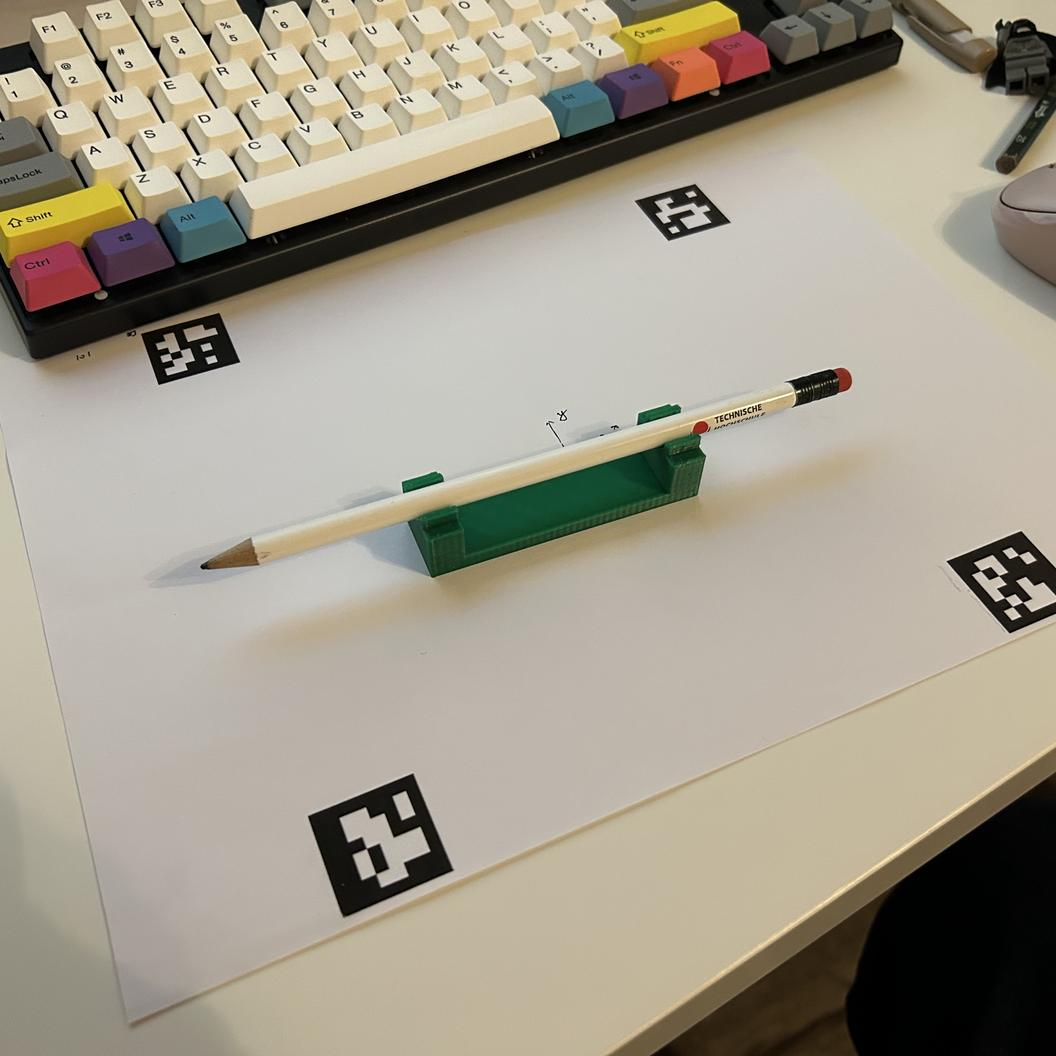X: (199, 367, 853, 579)
holder: (401, 403, 707, 579)
pencil: (198, 367, 853, 572)
